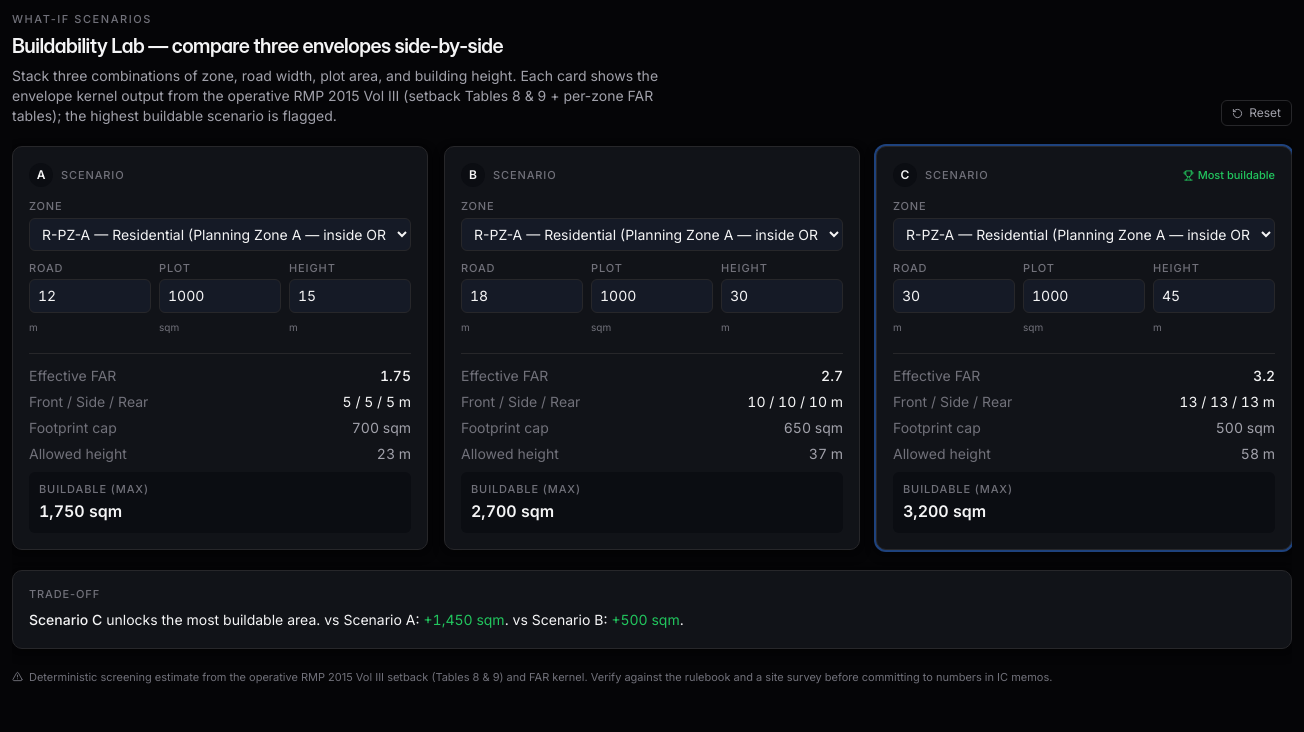
Test case: BuildabilityLab › flags a height that exceeds the road cap with a warning
The width and height of the screenshot is (1304, 732).
Replace the text in the number field named "Scenario A building height" with "60" at [350, 296], box left=289, top=279, right=411, bottom=313
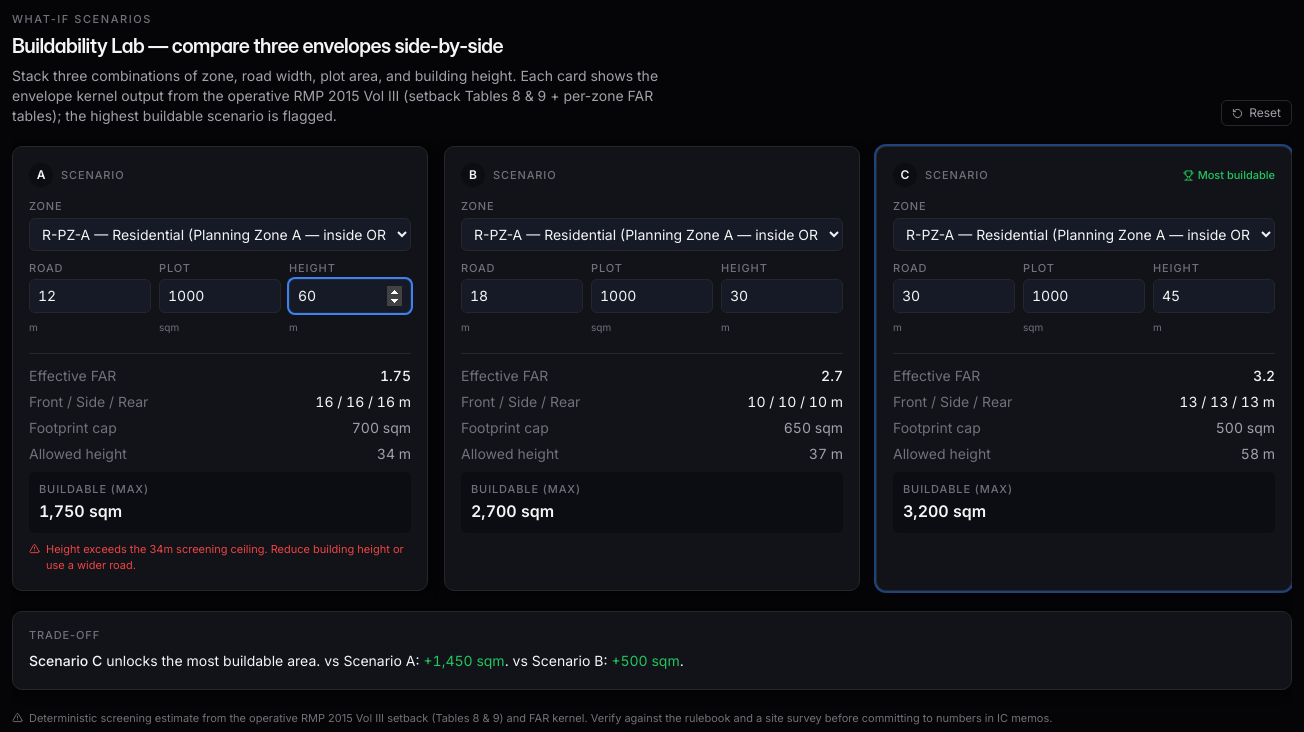
Expected: the text "screening ceiling" is shown, left=46, top=542, right=404, bottom=572
